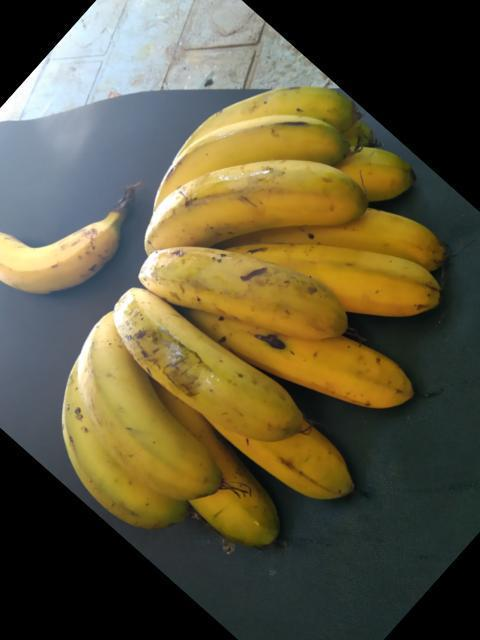ripe: (79, 257, 299, 443), (75, 292, 216, 499), (117, 218, 349, 336), (116, 146, 373, 243), (240, 303, 428, 410), (141, 112, 373, 178), (0, 182, 119, 304), (286, 253, 453, 303)
